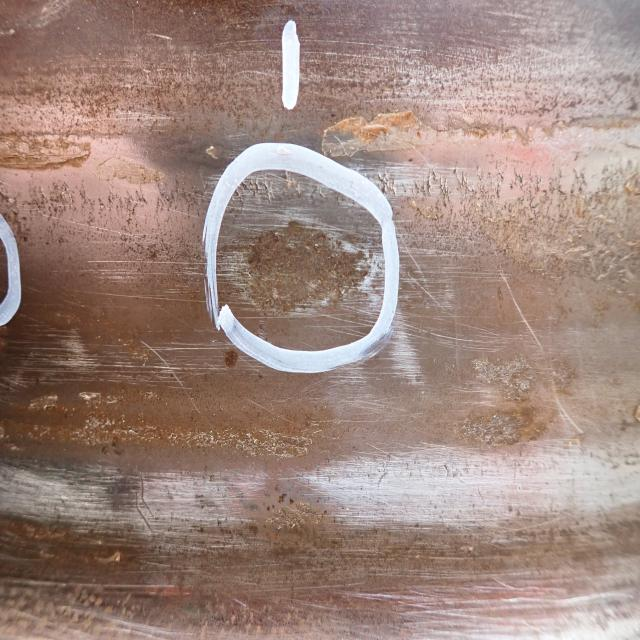geshang: (246, 218, 374, 315)
